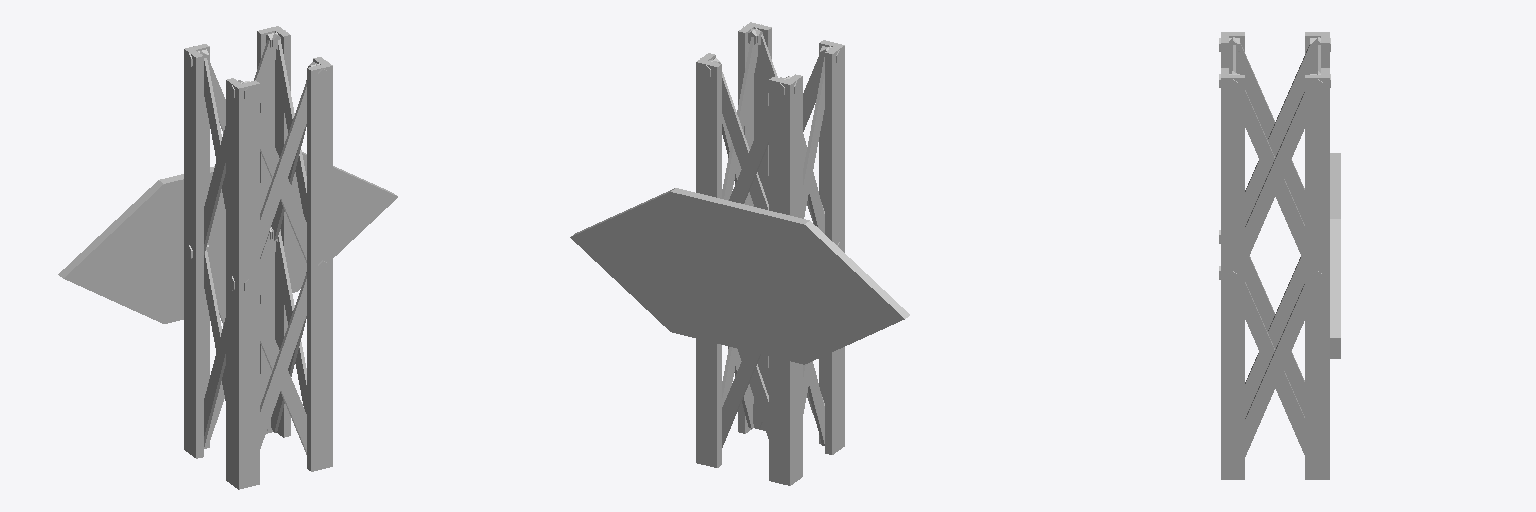
Rendered from lms_post_lattice_55.obj.
3 renders of one model, left to right at view 1: azimuth 30°, elevation 25°; view 2: azimuth 150°, elevation 25°; view 3: azimuth 270°, elevation 25°, orthographic.
Visible parts, largest first — view 1: Rule_55_lattice_post_Cube.040; view 2: Rule_55_lattice_post_Cube.040; view 3: Rule_55_lattice_post_Cube.040.
Boxes of the visible parts, x1,y1,x2,y2 form: Rule_55_lattice_post_Cube.040: [58, 26, 397, 489]; Rule_55_lattice_post_Cube.040: [570, 22, 909, 485]; Rule_55_lattice_post_Cube.040: [1219, 32, 1340, 479].
Bounding box in the file's own units: 0.875 × 1 × 0.2752.